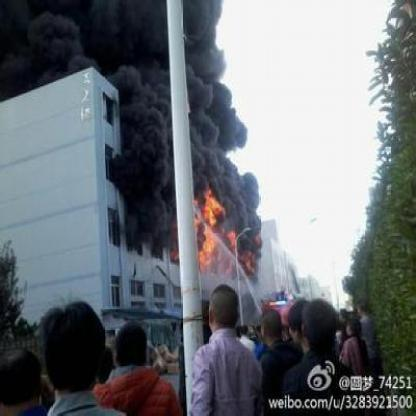fire: (185, 183, 268, 276)
smoke: (110, 0, 256, 170), (0, 0, 107, 77)
